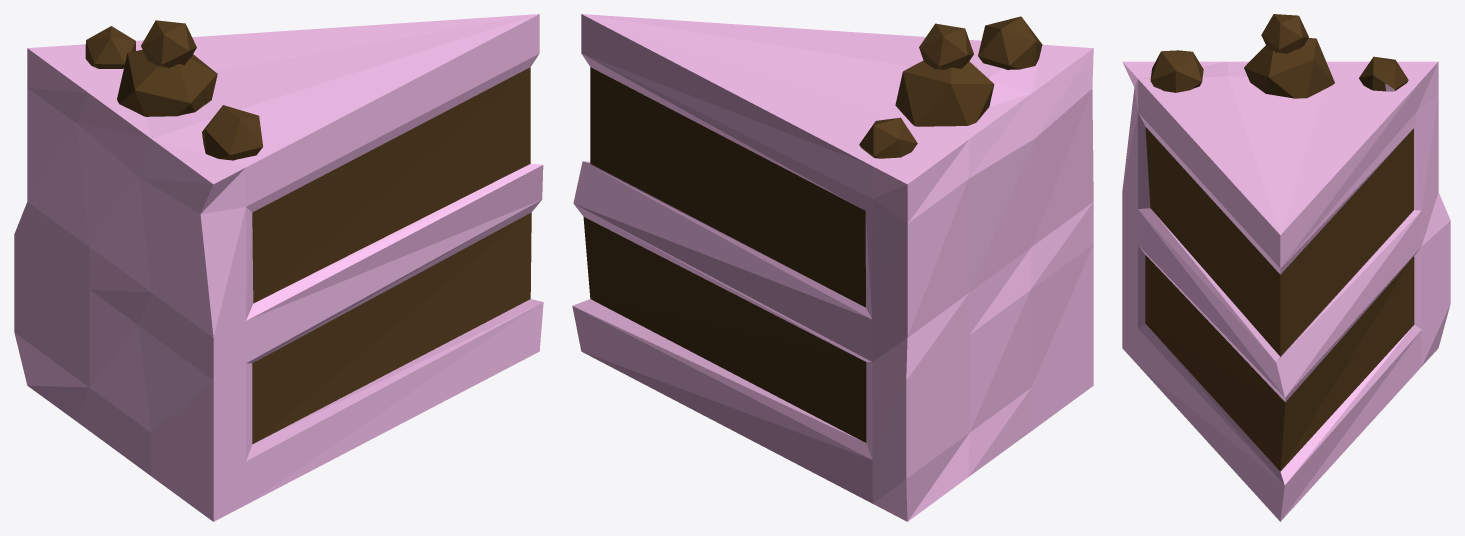
Rendered from cake_1_s.fbx.
3 renders of one model, left to right at view 1: azimuth 30°, elevation 25°; view 2: azimuth 150°, elevation 25°; view 3: azimuth 270°, elevation 25°, orthographic. The views are drawn at different scales.
Visible parts, largest first — view 1: Cube.003, Cube.001, Cube.012, Cube, Cube.002, Cube.005, Cube.004, Cube.007, Cube.006; view 2: Cube.003, Cube.001, Cube.012, Cube, Cube.002, Cube.005, Cube.004, Cube.007, Cube.006; view 3: Cube.012, Cube.001, Cube, Cube.003, Cube.002, Cube.009, Cube.005, Cube.007, Cube.004, Cube.006, Cube.008.
Part boxes in pixels (left/top/right/bottom): Cube.003: left=14, top=44, right=269, bottom=521; Cube.001: left=227, top=27, right=413, bottom=455; Cube.012: left=136, top=35, right=341, bottom=492; Cube: left=341, top=20, right=485, bottom=417; Cube.002: left=452, top=14, right=543, bottom=380; Cube.005: left=117, top=50, right=205, bottom=116; Cube.004: left=202, top=105, right=263, bottom=160; Cube.007: left=141, top=20, right=195, bottom=67; Cube.006: left=85, top=26, right=135, bottom=68; Cube.003: left=851, top=44, right=1093, bottom=521; Cube.001: left=706, top=27, right=893, bottom=455; Cube.012: left=779, top=35, right=981, bottom=492; Cube: left=635, top=20, right=779, bottom=417; Cube.002: left=572, top=14, right=668, bottom=380; Cube.005: left=905, top=60, right=994, bottom=126; Cube.004: left=978, top=16, right=1042, bottom=69; Cube.007: left=919, top=23, right=973, bottom=69; Cube.006: left=860, top=117, right=917, bottom=158; Cube.012: left=1149, top=88, right=1411, bottom=415; Cube.001: left=1182, top=127, right=1378, bottom=453; Cube: left=1216, top=166, right=1345, bottom=491; Cube.003: left=1122, top=61, right=1450, bottom=377; Cube.002: left=1249, top=204, right=1313, bottom=521; Cube.009: left=1258, top=54, right=1320, bottom=98; Cube.005: left=1244, top=38, right=1334, bottom=90; Cube.007: left=1261, top=14, right=1308, bottom=53; Cube.004: left=1150, top=50, right=1203, bottom=90; Cube.006: left=1359, top=56, right=1408, bottom=91; Cube.008: left=1163, top=67, right=1192, bottom=92.
Bounding box in the file's own units: 237 × 217 × 183.
